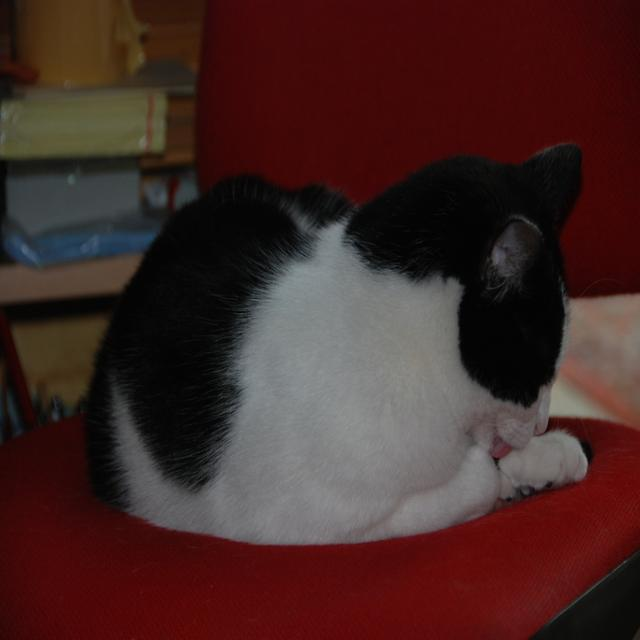Cat: (77, 141, 595, 552)
